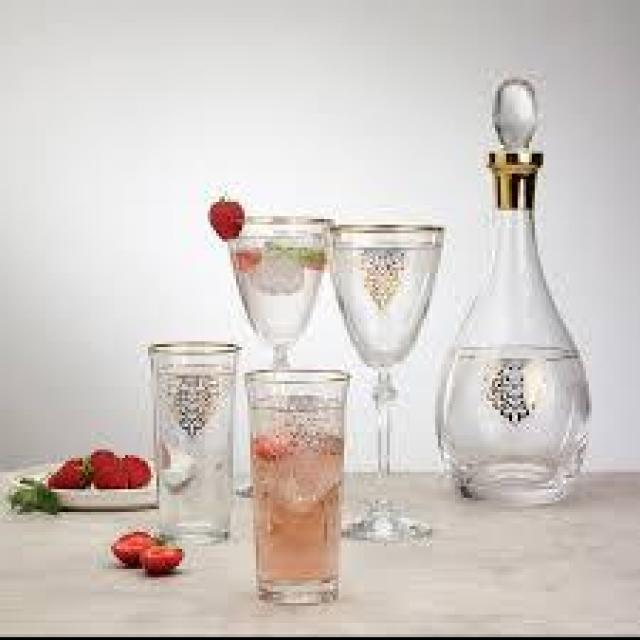non-organic waste: (428, 77, 596, 506), (324, 222, 444, 543), (243, 364, 354, 612)
